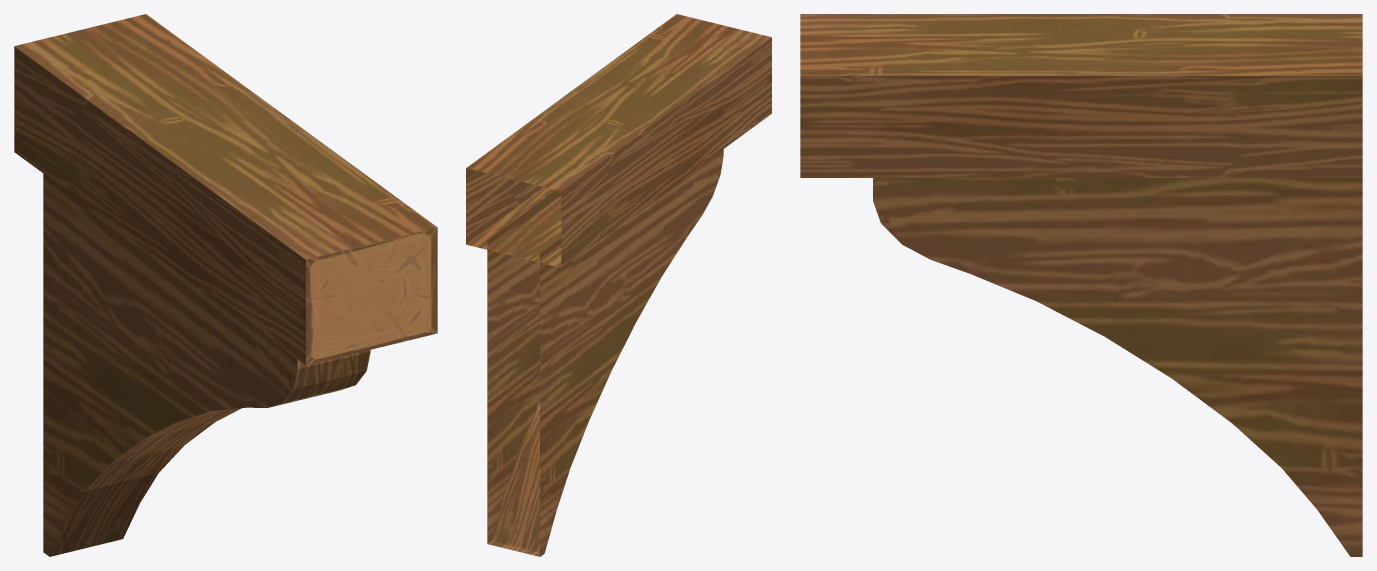
Rendered from Roof_Support2.glb.
3 renders of one model, left to right at view 1: azimuth 30°, elevation 25°; view 2: azimuth 150°, elevation 25°; view 3: azimuth 270°, elevation 25°, orthographic. The views are drawn at different scales.
Visible parts, largest first — view 1: Roof_Support2; view 2: Roof_Support2; view 3: Roof_Support2.
Boxes of the visible parts, bbox=[...] form: Roof_Support2: bbox=[14, 14, 437, 556]; Roof_Support2: bbox=[466, 14, 771, 556]; Roof_Support2: bbox=[800, 14, 1362, 556].
Bounding box in the file's own units: 0.1997 × 0.7429 × 0.7651.
1 material, 1 textured.
